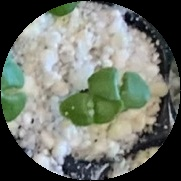Basil: (91, 62, 150, 106), (65, 91, 121, 126)
